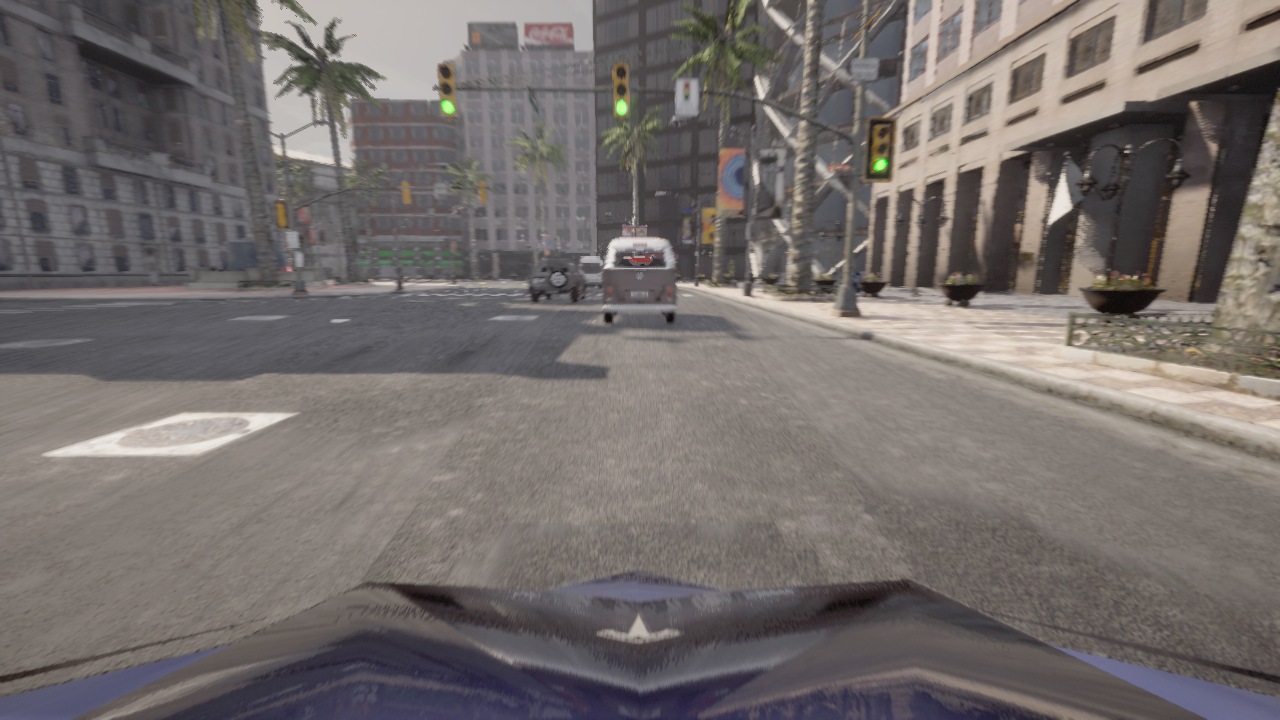cyclist: (0, 569, 1279, 719), (602, 237, 677, 323), (529, 259, 586, 302), (577, 256, 603, 288), (526, 275, 531, 283)
